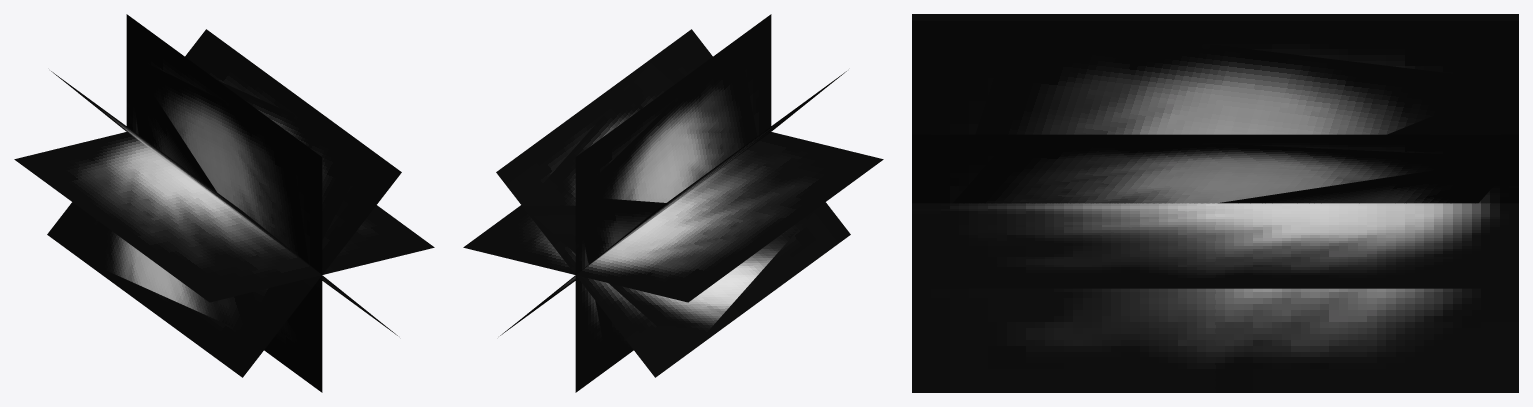
The model's file is superpower.glb.
3 views of the same model, side by side, from view 1: azimuth 30°, elevation 25°; view 2: azimuth 150°, elevation 25°; view 3: azimuth 270°, elevation 25° (orthographic). The views are drawn at different scales.
Visible parts, largest first — view 1: model_superpower; view 2: model_superpower; view 3: model_superpower.
Part boxes in pixels (x1,y1,x2,y2): model_superpower: (14, 14, 434, 392); model_superpower: (463, 14, 883, 392); model_superpower: (912, 14, 1518, 392).
Size of the model in its own units: 0.7135 by 0.7135 by 1.07.
Materials: 1 (1 with a texture image).
